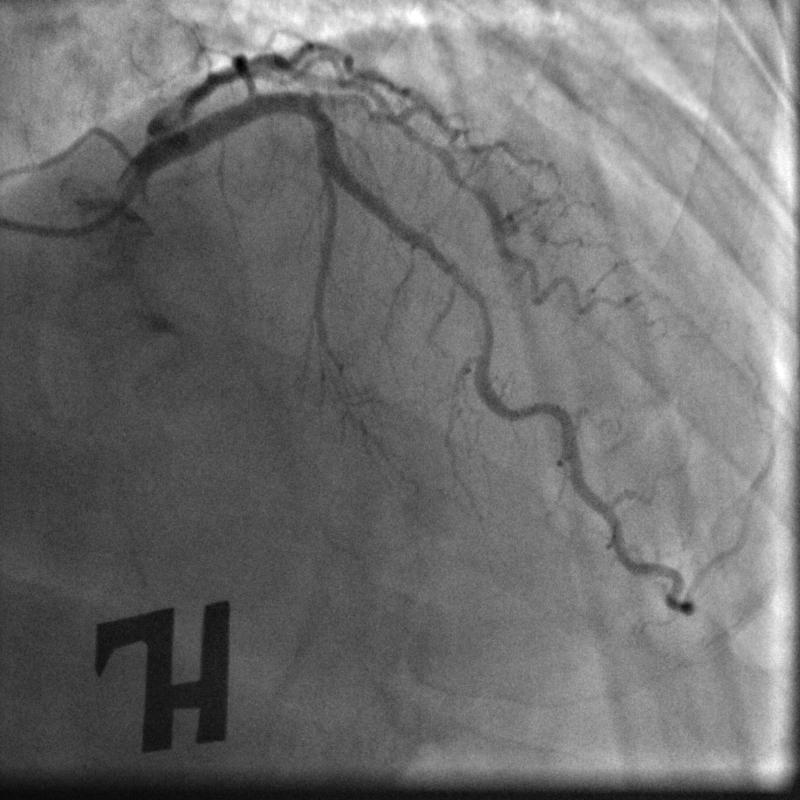Stenosis: (461, 280, 500, 354)
